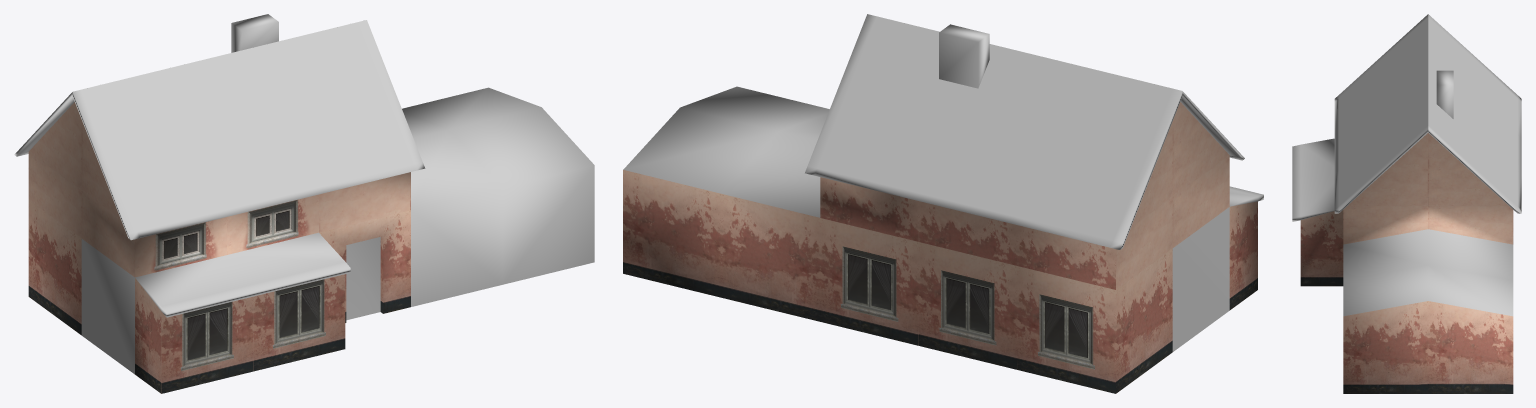
The model's file is landhaus_01.fbx.
3 views of the same model, side by side, from view 1: azimuth 30°, elevation 25°; view 2: azimuth 150°, elevation 25°; view 3: azimuth 270°, elevation 25° (orthographic). The views are drawn at different scales.
Visible parts, largest first — view 1: Mesh; view 2: Mesh; view 3: Mesh.
Boxes of the visible parts, <box> form: Mesh: <box>14,14,594,393</box>; Mesh: <box>623,14,1263,393</box>; Mesh: <box>1292,14,1521,393</box>.
Size of the model in its own units: 1449 by 769 by 767.
